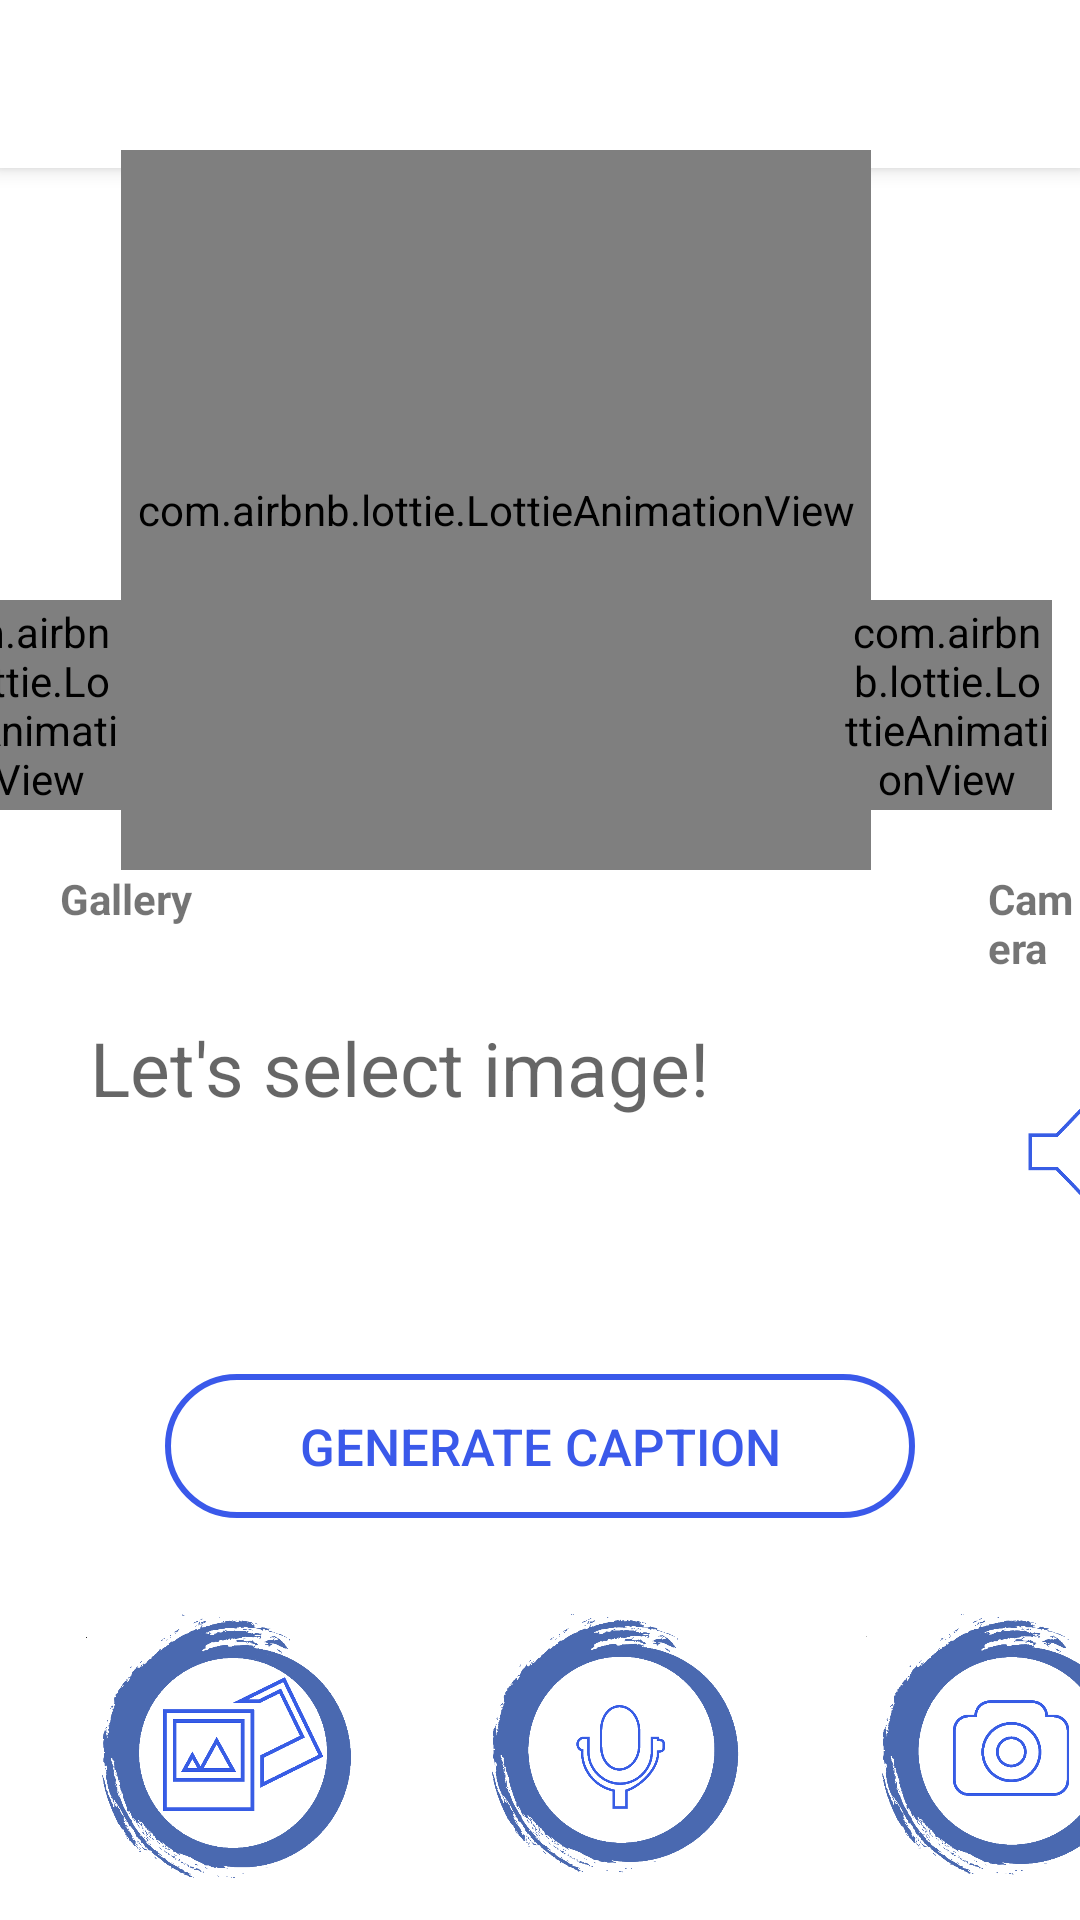

Point at icon controls on the screen. Image size 1080px x 1920px, points as (x=x, y=y).
gal: (x=218, y=1746)
mic: (x=615, y=1743)
